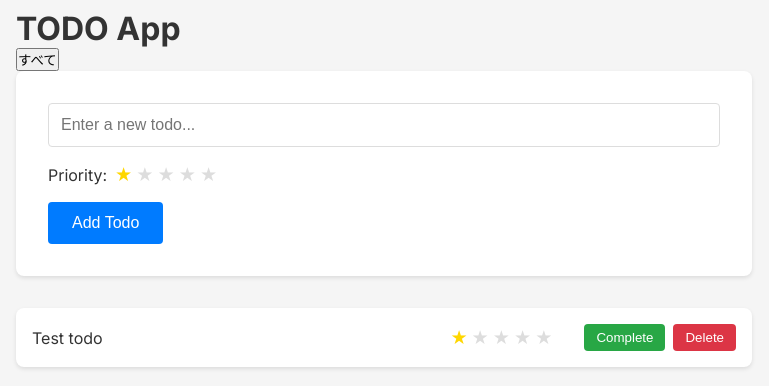
Scenario: Todo App › toggles todo completion
The image size is (769, 386).
Expected: the text "Test todo" is shown, top-left (32, 328), bottom-right (103, 348)
Click the button "Complete": click(625, 338) top-left (584, 324), bottom-right (665, 351)
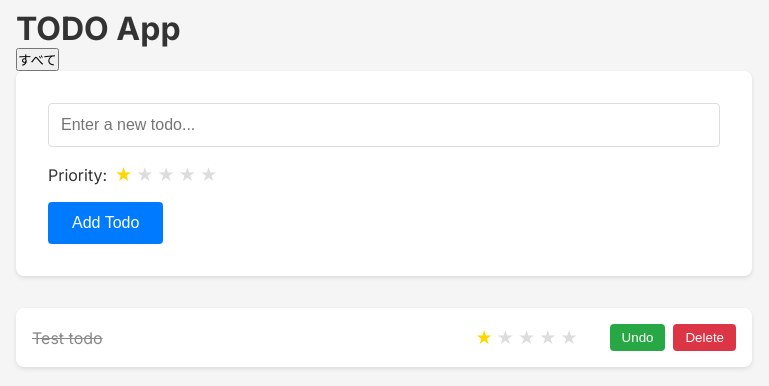
Now the button "Undo" is shown, box top-left (610, 324), bottom-right (666, 351)
